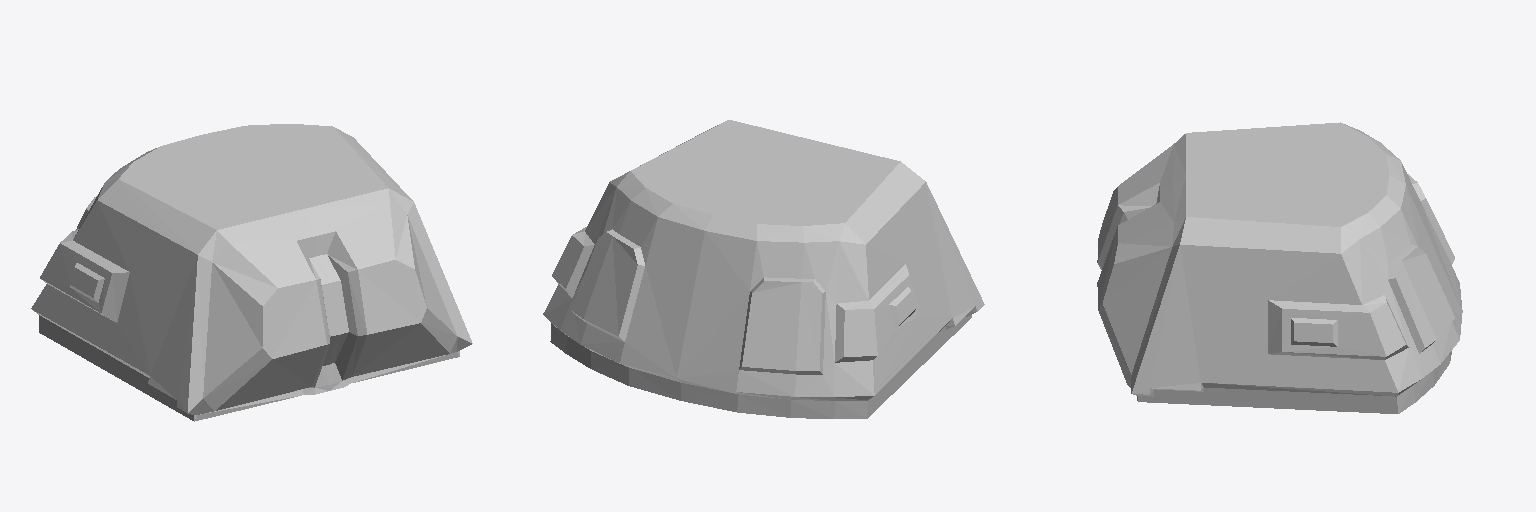
The model's file is heavycruiserion.0-1.obj.
3 views of the same model, side by side, from view 1: azimuth 30°, elevation 25°; view 2: azimuth 150°, elevation 25°; view 3: azimuth 270°, elevation 25° (orthographic).
Visible parts, largest first — view 1: Tai_HeavyCruiserGun; view 2: Tai_HeavyCruiserGun; view 3: Tai_HeavyCruiserGun.
Boxes of the visible parts, x1=… form: Tai_HeavyCruiserGun: x1=31, y1=124, x2=472, y2=421; Tai_HeavyCruiserGun: x1=543, y1=120, x2=984, y2=418; Tai_HeavyCruiserGun: x1=1097, y1=122, x2=1462, y2=413.
Bounding box in the file's own units: 38.17 × 17.84 × 36.39.